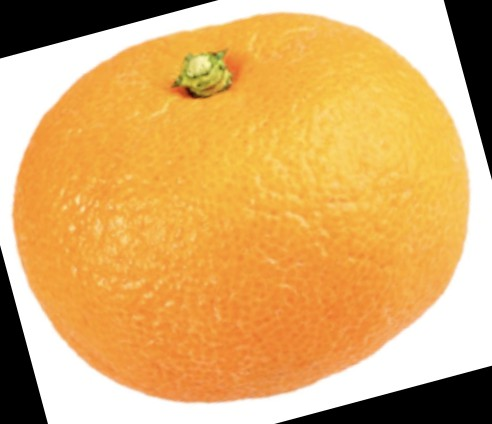fresh_orange: (13, 12, 471, 405)
